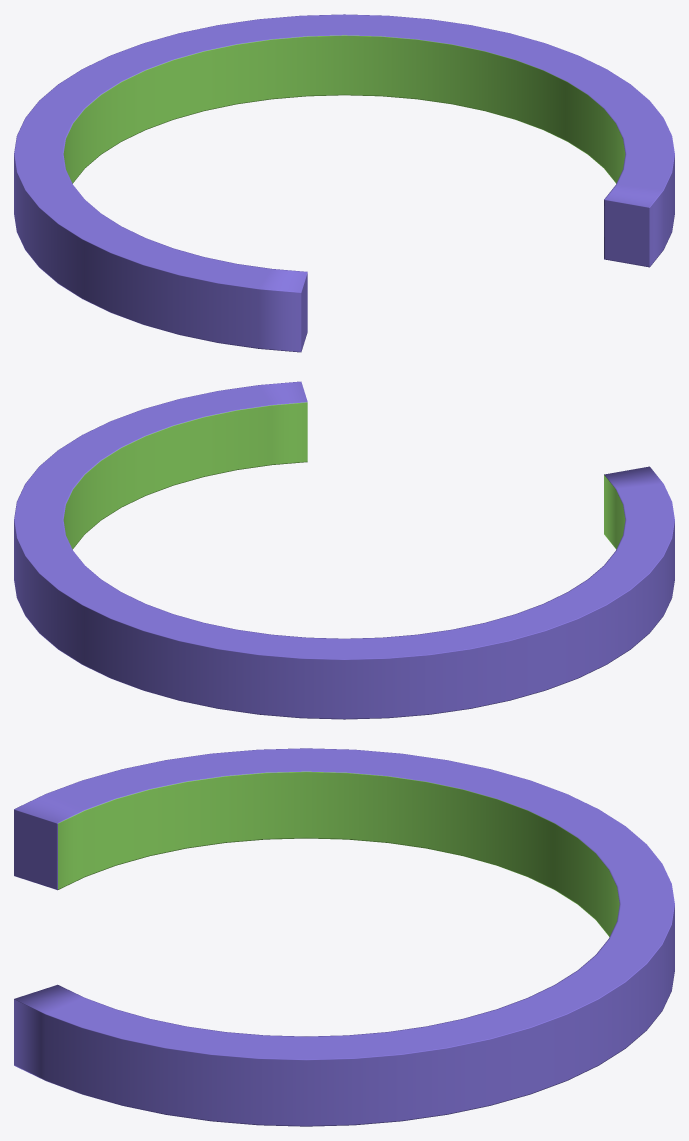
File: Obstacle1.fbx
3 views of the same model, one above another, from view 1: azimuth 30°, elevation 25°; view 2: azimuth 150°, elevation 25°; view 3: azimuth 270°, elevation 25° (orthographic). The views are drawn at different scales.
Visible parts, largest first — view 1: Cylinder; view 2: Cylinder; view 3: Cylinder.
Part boxes in pixels (x1=…): Cylinder: x1=14, y1=14, x2=674, y2=352; Cylinder: x1=14, y1=381, x2=674, y2=719; Cylinder: x1=14, y1=748, x2=674, y2=1126.
Bounding box in the file's own units: 200 × 20 × 179.
